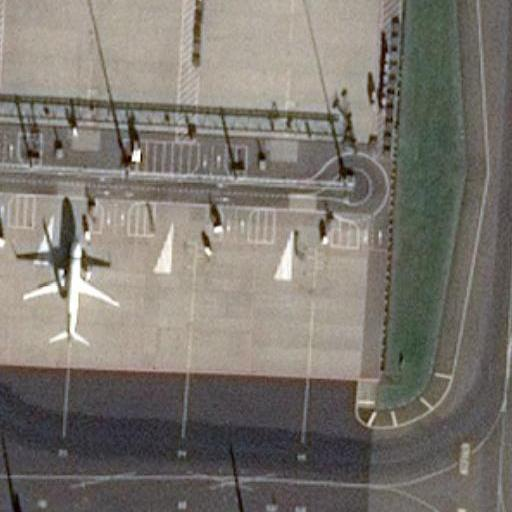Aircraft: (23, 233, 118, 348)
